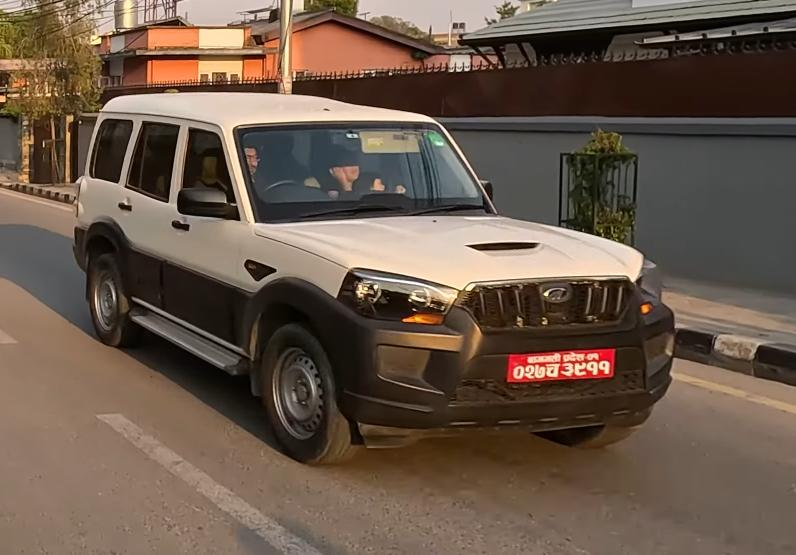SUV: (59, 90, 678, 462)
